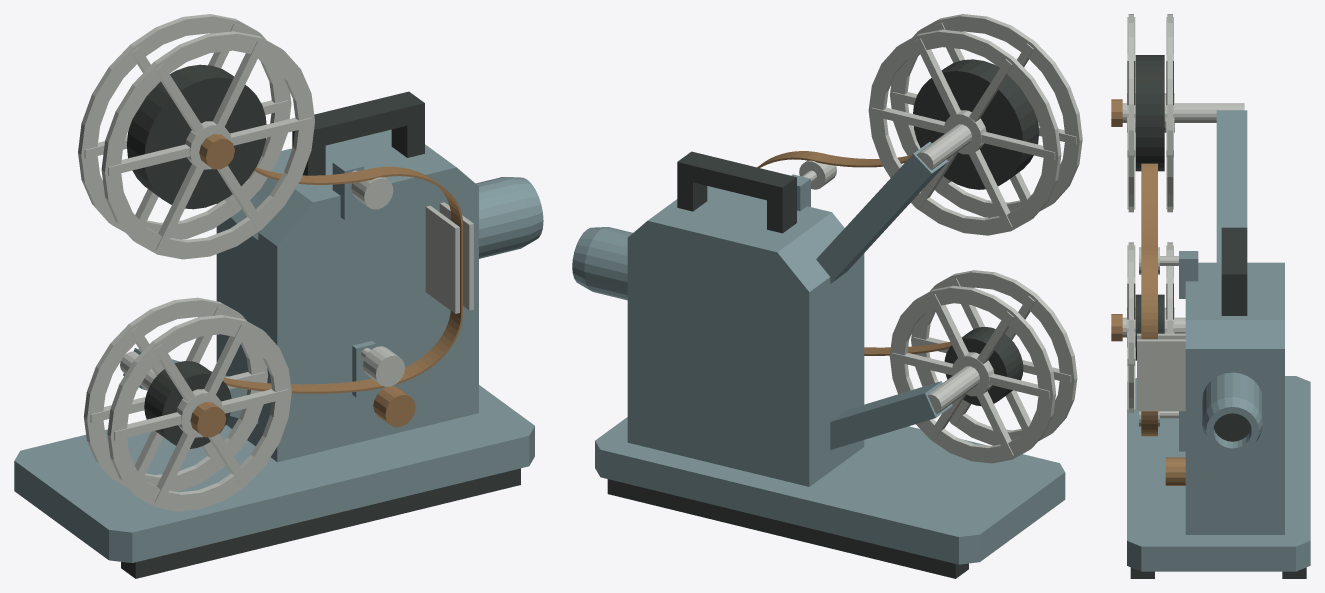
3 renders of one model, left to right at view 1: azimuth 30°, elevation 25°; view 2: azimuth 150°, elevation 25°; view 3: azimuth 270°, elevation 25°, orthographic. The views are drawn at different scales.
Parts seen in each view (by area): view 1: WholeProjectorMachineCase, WholeLowProjectorBase, WholeOpenReelRimUpperFeedFront, WholeStoredFilmMassUpperFeed, WholeOpenReelRimLowerTakeupFront, WholeOpenReelRimUpperFeedRear, WholeOpenReelRimLowerTakeupRear, WholeFiniteGroundShoe0, WholeOpenCarryHandle, WholeContinuousExposedFilmRibbon, WholeHorizontalLensHousing, WholeFixedGateCheekLeft (+22 smaller); view 2: WholeProjectorMachineCase, WholeLowProjectorBase, WholeOpenReelRimUpperFeedRear, WholeStoredFilmMassUpperFeed, WholeOpenReelRimLowerTakeupRear, WholeOpenReelRimUpperFeedFront, WholeFiniteGroundShoe1, WholeOpenReelRimLowerTakeupFront, WholeOpenCarryHandle, WholeReelSupportArmUpperFeed, WholeReelSupportArmLowerTakeup, WholeHorizontalLensHousing (+16 smaller); view 3: WholeProjectorMachineCase, WholeLowProjectorBase, WholeReelSupportArmUpperFeed, WholeFixedGateCheekRight, WholeHorizontalLensHousing, WholeContinuousExposedFilmRibbon, WholeStoredFilmMassUpperFeed, WholeOpenCarryHandle, WholeOpenReelRimUpperFeedRear, WholeOpenReelRimUpperFeedFront, WholeReelAxleUpperFeed, WholeOpenReelRimLowerTakeupFront (+10 smaller).
Boxes of the visible parts, <box> form: WholeProjectorMachineCase: <box>216,129,478,462</box>; WholeLowProjectorBase: <box>14,385,534,562</box>; WholeOpenReelRimUpperFeedFront: <box>101,31,314,259</box>; WholeStoredFilmMassUpperFeed: <box>126,64,266,209</box>; WholeOpenReelRimLowerTakeupFront: <box>107,315,291,511</box>; WholeOpenReelRimUpperFeedRear: <box>78,14,291,239</box>; WholeOpenReelRimLowerTakeupRear: <box>84,297,267,491</box>; WholeFiniteGroundShoe0: <box>121,468,520,578</box>; WholeOpenCarryHandle: <box>292,91,424,175</box>; WholeContinuousExposedFilmRibbon: <box>223,166,462,393</box>; WholeHorizontalLensHousing: <box>476,177,543,258</box>; WholeFixedGateCheekLeft: <box>425,205,459,313</box>; WholeProjectorMachineCase: <box>627,186,864,486</box>; WholeLowProjectorBase: <box>595,417,1065,564</box>; WholeOpenReelRimUpperFeedRear: <box>868,29,1061,235</box>; WholeStoredFilmMassUpperFeed: <box>913,59,1039,189</box>; WholeOpenReelRimLowerTakeupRear: <box>889,285,1055,463</box>; WholeOpenReelRimUpperFeedFront: <box>890,14,1082,217</box>; WholeFiniteGroundShoe1: <box>607,479,968,578</box>; WholeOpenReelRimLowerTakeupFront: <box>911,270,1077,445</box>; WholeOpenCarryHandle: <box>677,151,796,233</box>; WholeReelSupportArmUpperFeed: <box>816,142,948,283</box>; WholeReelSupportArmLowerTakeup: <box>830,381,952,449</box>; WholeHorizontalLensHousing: <box>572,227,632,300</box>; WholeProjectorMachineCase: <box>1185,262,1284,534</box>; WholeLowProjectorBase: <box>1127,376,1310,571</box>; WholeReelSupportArmUpperFeed: <box>1216,110,1247,262</box>; WholeFixedGateCheekRight: <box>1137,339,1185,411</box>; WholeHorizontalLensHousing: <box>1202,372,1262,454</box>; WholeContinuousExposedFilmRibbon: <box>1141,163,1157,436</box>; WholeStoredFilmMassUpperFeed: <box>1135,55,1164,171</box>; WholeOpenCarryHandle: <box>1221,227,1247,315</box>; WholeOpenReelRimUpperFeedRear: <box>1167,14,1172,212</box>; WholeOpenReelRimUpperFeedFront: <box>1128,14,1133,212</box>; WholeReelAxleUpperFeed: <box>1122,103,1244,122</box>; WholeOpenReelRimLowerTakeupFront: <box>1128,242,1133,412</box>.
Size of the model in its own units: 0.832 by 0.86 by 0.36.
